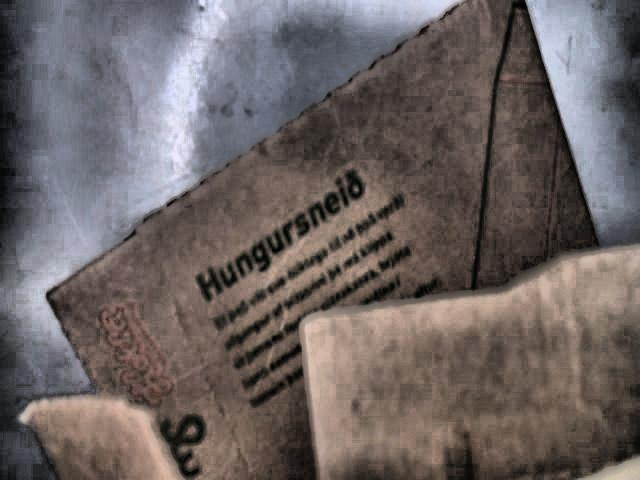Paper: (15, 0, 639, 479)
